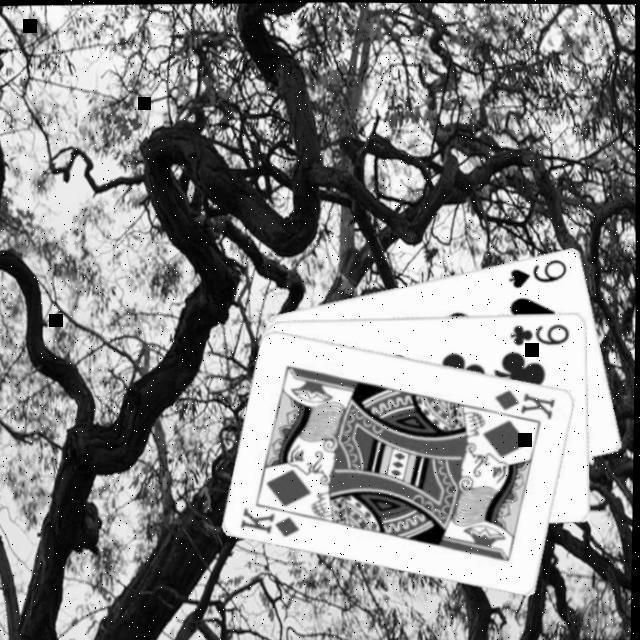9C: (506, 316, 572, 346)
9S: (505, 252, 570, 288)
KD: (490, 384, 560, 421), (236, 502, 304, 539)
